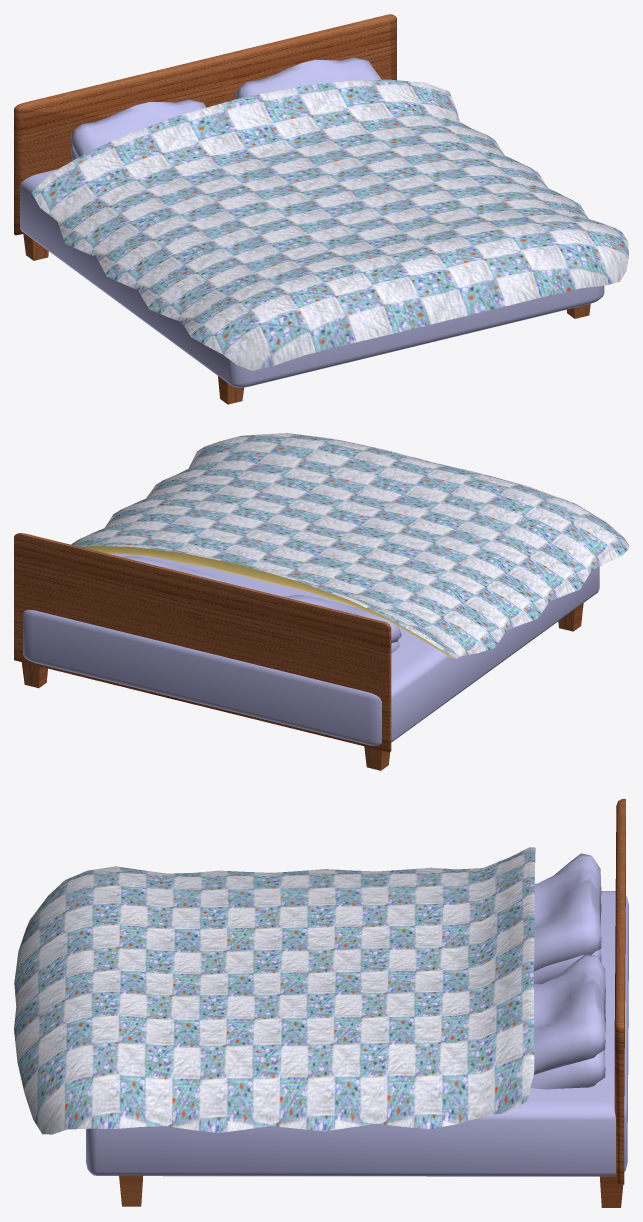
The picture shows the model from 3 angles, top to bottom: view 1: azimuth 30°, elevation 25°; view 2: azimuth 150°, elevation 25°; view 3: azimuth 270°, elevation 25°; orthographic projection. The views are drawn at different scales.
Visible parts, largest first — view 1: Mesh7_bed_dxf1_Model, Mesh5_bed_dxf1_Model, Mesh8_bed_dxf1_Model, Mesh9_bed_dxf1_Model.001, Mesh6_bed_dxf1_Model.001; view 2: Mesh7_bed_dxf1_Model, Mesh5_bed_dxf1_Model, Mesh8_bed_dxf1_Model, Mesh9_bed_dxf1_Model.001, Mesh6_bed_dxf1_Model.001, Mesh2_bed_dxf1_Model, Mesh1_bed_dxf1_Model; view 3: Mesh7_bed_dxf1_Model, Mesh8_bed_dxf1_Model, Mesh6_bed_dxf1_Model.001, Mesh9_bed_dxf1_Model.001, Mesh5_bed_dxf1_Model, Mesh6_bed_dxf1_Model, Mesh3_bed_dxf1_Model, Mesh2_bed_dxf1_Model, Mesh9_bed_dxf1_Model.
Boxes of the visible parts, x1,y1,x2,y2 form: Mesh7_bed_dxf1_Model: (31, 79, 628, 370); Mesh5_bed_dxf1_Model: (14, 14, 396, 235); Mesh8_bed_dxf1_Model: (20, 169, 604, 387); Mesh9_bed_dxf1_Model.001: (70, 99, 206, 157); Mesh6_bed_dxf1_Model.001: (235, 57, 381, 98); Mesh7_bed_dxf1_Model: (71, 433, 628, 658); Mesh5_bed_dxf1_Model: (14, 533, 391, 752); Mesh8_bed_dxf1_Model: (23, 553, 599, 745); Mesh9_bed_dxf1_Model.001: (283, 594, 401, 643); Mesh6_bed_dxf1_Model.001: (122, 556, 226, 582); Mesh2_bed_dxf1_Model: (21, 662, 47, 688); Mesh1_bed_dxf1_Model: (364, 746, 390, 770); Mesh7_bed_dxf1_Model: (14, 847, 535, 1134); Mesh8_bed_dxf1_Model: (86, 891, 628, 1176); Mesh6_bed_dxf1_Model.001: (533, 954, 605, 1074); Mesh9_bed_dxf1_Model.001: (534, 853, 601, 971); Mesh5_bed_dxf1_Model: (614, 799, 625, 1184); Mesh6_bed_dxf1_Model: (530, 1005, 605, 1089); Mesh3_bed_dxf1_Model: (119, 1175, 143, 1206); Mesh2_bed_dxf1_Model: (599, 1176, 623, 1207); Mesh9_bed_dxf1_Model: (534, 904, 601, 983).
Bounding box in the file's own units: 3.51 × 1.19 × 3.51.
Materials: 4 (2 with a texture image).
